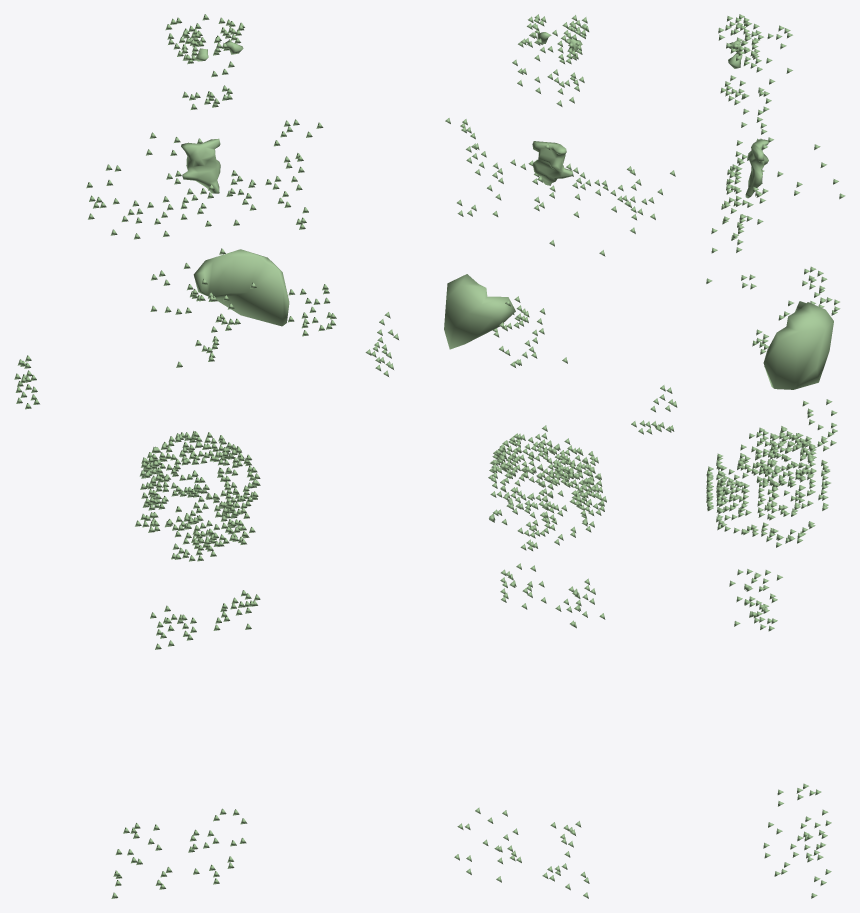
File: icrp_adult_female.lymphatic.LOD3.glb
3 renders of one model, left to right at view 1: azimuth 30°, elevation 25°; view 2: azimuth 150°, elevation 25°; view 3: azimuth 270°, elevation 25°, orthographic. The views are drawn at different scales.
Parts seen in each view (by area): view 1: ICRP.ADULT.FEMALE.LYMPHATIC.LYMPHATIC_NODES_TRUNK, ICRP.ADULT.FEMALE.LYMPHATIC.SPLEEN, ICRP.ADULT.FEMALE.LYMPHATIC.LYMPHATIC_NODES_THORACIC, ICRP.ADULT.FEMALE.LYMPHATIC.THYMUS, ICRP.ADULT.FEMALE.LYMPHATIC.LYMPHATIC_NODES_ET, ICRP.ADULT.FEMALE.LYMPHATIC.LYMPHATIC_NODES_LEGS, ICRP.ADULT.FEMALE.LYMPHATIC.LYMPHATIC_NODES_ARMS; view 2: ICRP.ADULT.FEMALE.LYMPHATIC.LYMPHATIC_NODES_TRUNK, ICRP.ADULT.FEMALE.LYMPHATIC.SPLEEN, ICRP.ADULT.FEMALE.LYMPHATIC.THYMUS, ICRP.ADULT.FEMALE.LYMPHATIC.LYMPHATIC_NODES_ET, ICRP.ADULT.FEMALE.LYMPHATIC.LYMPHATIC_NODES_THORACIC, ICRP.ADULT.FEMALE.LYMPHATIC.LYMPHATIC_NODES_LEGS, ICRP.ADULT.FEMALE.LYMPHATIC.LYMPHATIC_NODES_ARMS; view 3: ICRP.ADULT.FEMALE.LYMPHATIC.LYMPHATIC_NODES_TRUNK, ICRP.ADULT.FEMALE.LYMPHATIC.SPLEEN, ICRP.ADULT.FEMALE.LYMPHATIC.LYMPHATIC_NODES_ET, ICRP.ADULT.FEMALE.LYMPHATIC.LYMPHATIC_NODES_LEGS, ICRP.ADULT.FEMALE.LYMPHATIC.LYMPHATIC_NODES_THORACIC, ICRP.ADULT.FEMALE.LYMPHATIC.LYMPHATIC_NODES_ARMS, ICRP.ADULT.FEMALE.LYMPHATIC.THYMUS, ICRP.ADULT.FEMALE.LYMPHATIC.LYMPHATIC_NODES_HEAD.
Boxes of the visible parts, box(x1,y1,x2,y2) form: ICRP.ADULT.FEMALE.LYMPHATIC.LYMPHATIC_NODES_TRUNK: box(86, 119, 323, 649); ICRP.ADULT.FEMALE.LYMPHATIC.SPLEEN: box(193, 249, 289, 326); ICRP.ADULT.FEMALE.LYMPHATIC.LYMPHATIC_NODES_THORACIC: box(146, 132, 243, 367); ICRP.ADULT.FEMALE.LYMPHATIC.THYMUS: box(181, 138, 220, 193); ICRP.ADULT.FEMALE.LYMPHATIC.LYMPHATIC_NODES_ET: box(165, 14, 244, 64); ICRP.ADULT.FEMALE.LYMPHATIC.LYMPHATIC_NODES_LEGS: box(111, 808, 247, 898); ICRP.ADULT.FEMALE.LYMPHATIC.LYMPHATIC_NODES_ARMS: box(14, 284, 336, 409); ICRP.ADULT.FEMALE.LYMPHATIC.LYMPHATIC_NODES_TRUNK: box(445, 118, 675, 628); ICRP.ADULT.FEMALE.LYMPHATIC.SPLEEN: box(444, 274, 515, 349); ICRP.ADULT.FEMALE.LYMPHATIC.THYMUS: box(532, 141, 572, 185); ICRP.ADULT.FEMALE.LYMPHATIC.LYMPHATIC_NODES_ET: box(518, 14, 589, 64); ICRP.ADULT.FEMALE.LYMPHATIC.LYMPHATIC_NODES_THORACIC: box(492, 143, 585, 367); ICRP.ADULT.FEMALE.LYMPHATIC.LYMPHATIC_NODES_LEGS: box(454, 807, 589, 898); ICRP.ADULT.FEMALE.LYMPHATIC.LYMPHATIC_NODES_ARMS: box(365, 312, 677, 434); ICRP.ADULT.FEMALE.LYMPHATIC.LYMPHATIC_NODES_TRUNK: box(706, 94, 830, 631); ICRP.ADULT.FEMALE.LYMPHATIC.SPLEEN: box(763, 301, 833, 389); ICRP.ADULT.FEMALE.LYMPHATIC.LYMPHATIC_NODES_ET: box(718, 14, 792, 72); ICRP.ADULT.FEMALE.LYMPHATIC.LYMPHATIC_NODES_LEGS: box(763, 783, 831, 898); ICRP.ADULT.FEMALE.LYMPHATIC.LYMPHATIC_NODES_THORACIC: box(726, 144, 845, 366); ICRP.ADULT.FEMALE.LYMPHATIC.LYMPHATIC_NODES_ARMS: box(802, 266, 840, 451); ICRP.ADULT.FEMALE.LYMPHATIC.THYMUS: box(745, 139, 768, 198); ICRP.ADULT.FEMALE.LYMPHATIC.LYMPHATIC_NODES_HEAD: box(720, 68, 792, 114).
Size of the model in its own units: 0.4028 by 1.06 by 0.1584.
